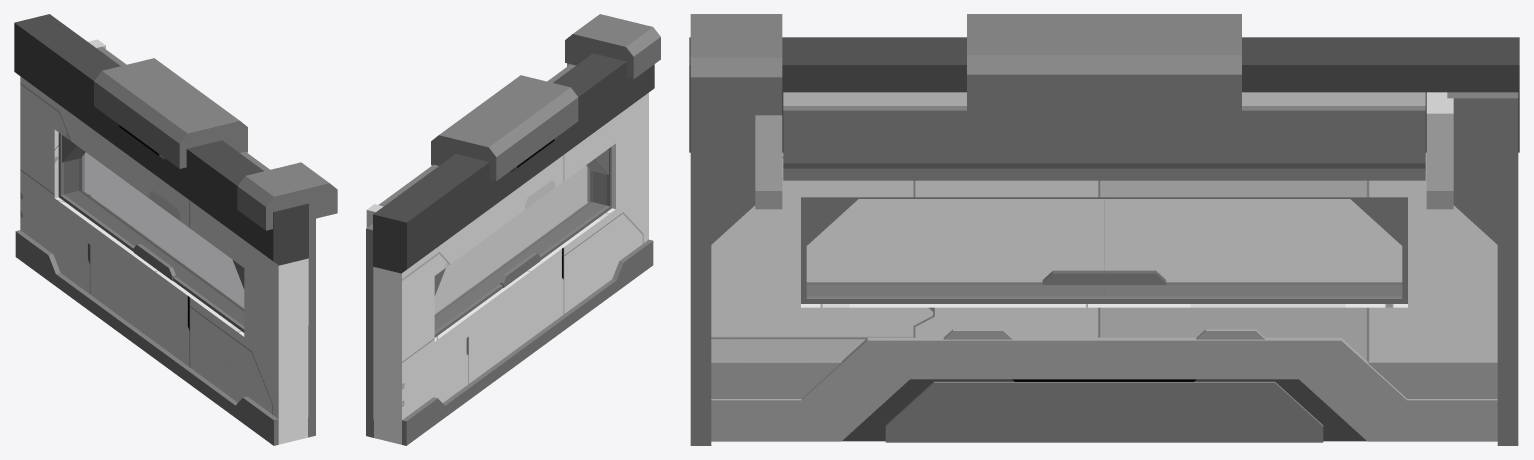
Rendered from SM_Wall_3x6_1.fbx.
3 renders of one model, left to right at view 1: azimuth 30°, elevation 25°; view 2: azimuth 150°, elevation 25°; view 3: azimuth 270°, elevation 25°, orthographic. The views are drawn at different scales.
Visible parts, largest first — view 1: SM_Wall_3x6_1; view 2: SM_Wall_3x6_1; view 3: SM_Wall_3x6_1.
Part boxes in pixels (x1=…): SM_Wall_3x6_1: x1=14, y1=14, x2=337, y2=445; SM_Wall_3x6_1: x1=366, y1=14, x2=660, y2=445; SM_Wall_3x6_1: x1=689, y1=14, x2=1519, y2=445.
Size of the model in its own units: 96.15 by 319 by 602.
